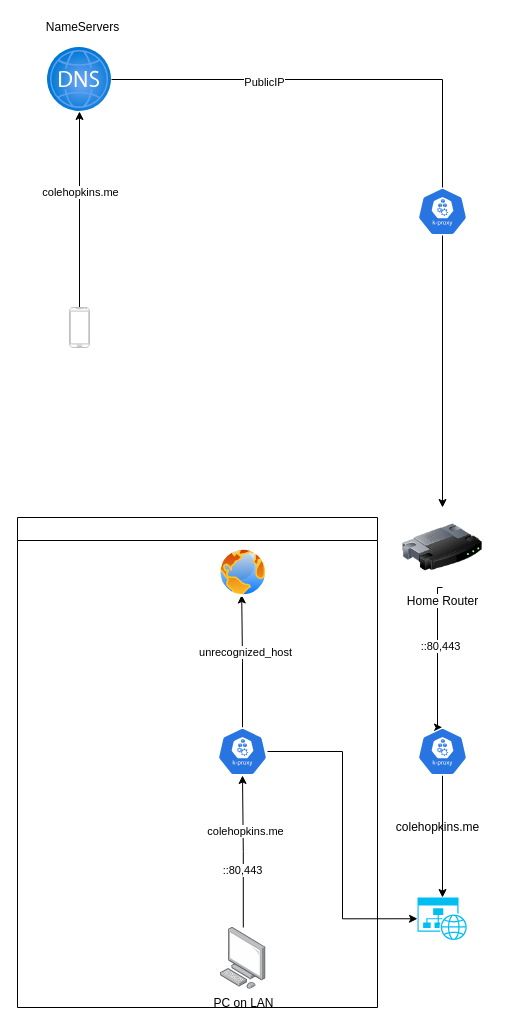
This 505x1027 diagram has some shape labels left out. Each missing label, with the box of its shape:
Desired Site x.x.x.x: (417, 897, 467, 940)
Internal Proxy: (16, 516, 378, 1008)
